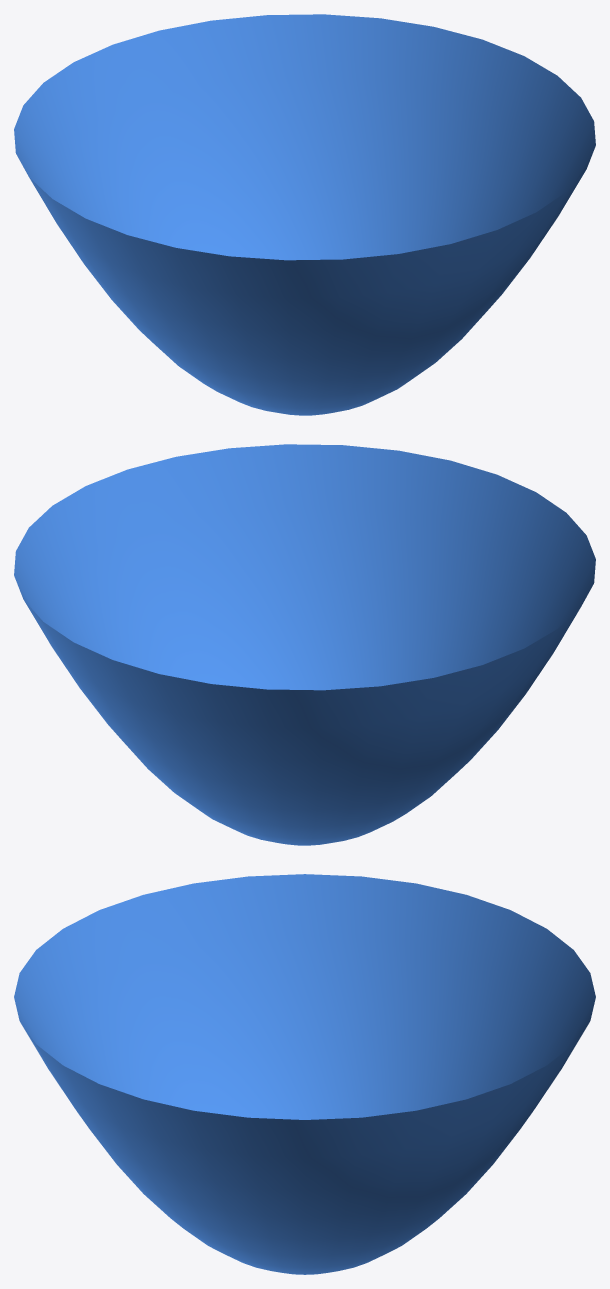
File: paraboloid-lite.glb
The picture shows the model from 3 angles, top to bottom: view 1: azimuth 30°, elevation 25°; view 2: azimuth 150°, elevation 25°; view 3: azimuth 270°, elevation 25°; orthographic projection.
Parts seen in each view (by area): view 1: Paraboloid surface; view 2: Paraboloid surface; view 3: Paraboloid surface.
Boxes of the visible parts, x1=… form: Paraboloid surface: x1=14, y1=14, x2=595, y2=415; Paraboloid surface: x1=14, y1=444, x2=595, y2=845; Paraboloid surface: x1=14, y1=874, x2=595, y2=1274.
Size of the model in its own units: 2 by 1 by 2.
